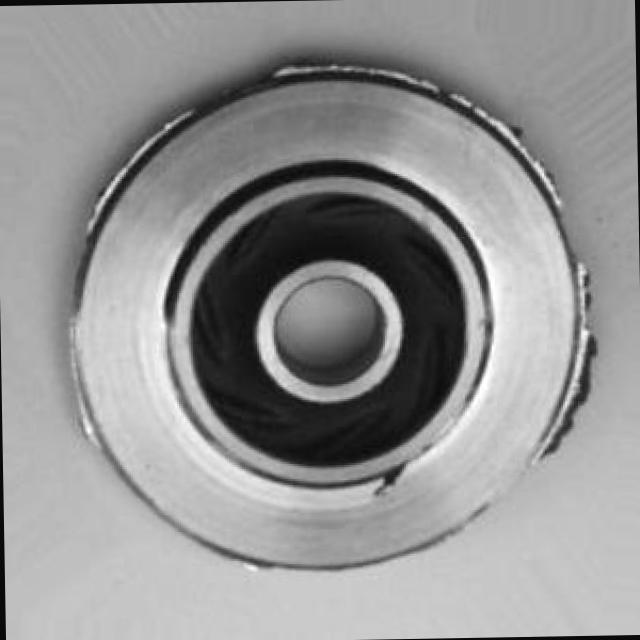Defect: (373, 461, 416, 494)
